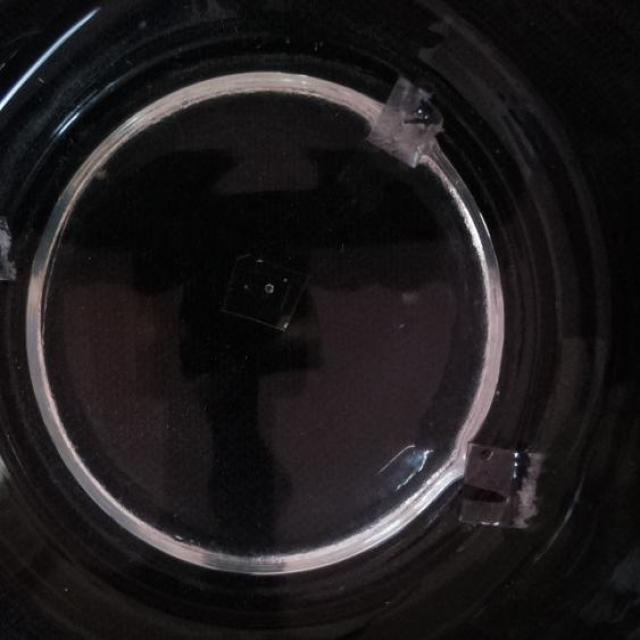fiber: (462, 439, 552, 541), (365, 62, 450, 169), (215, 243, 308, 329), (0, 211, 24, 296)
